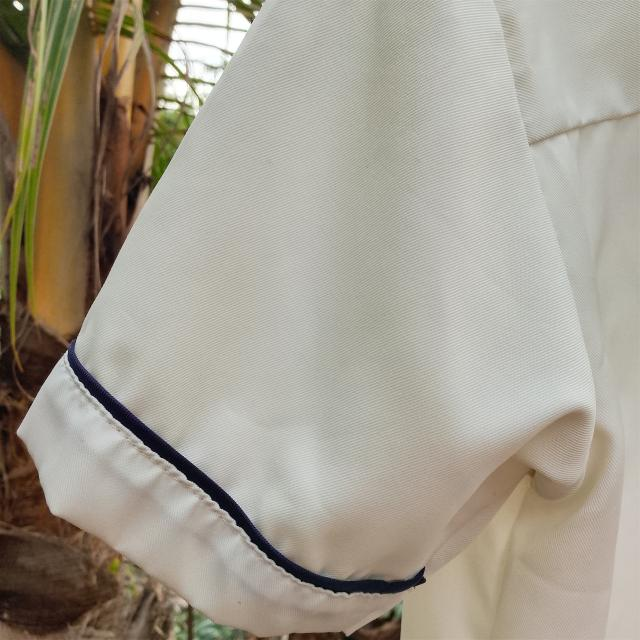education_male_uniform: (1, 0, 632, 632)
